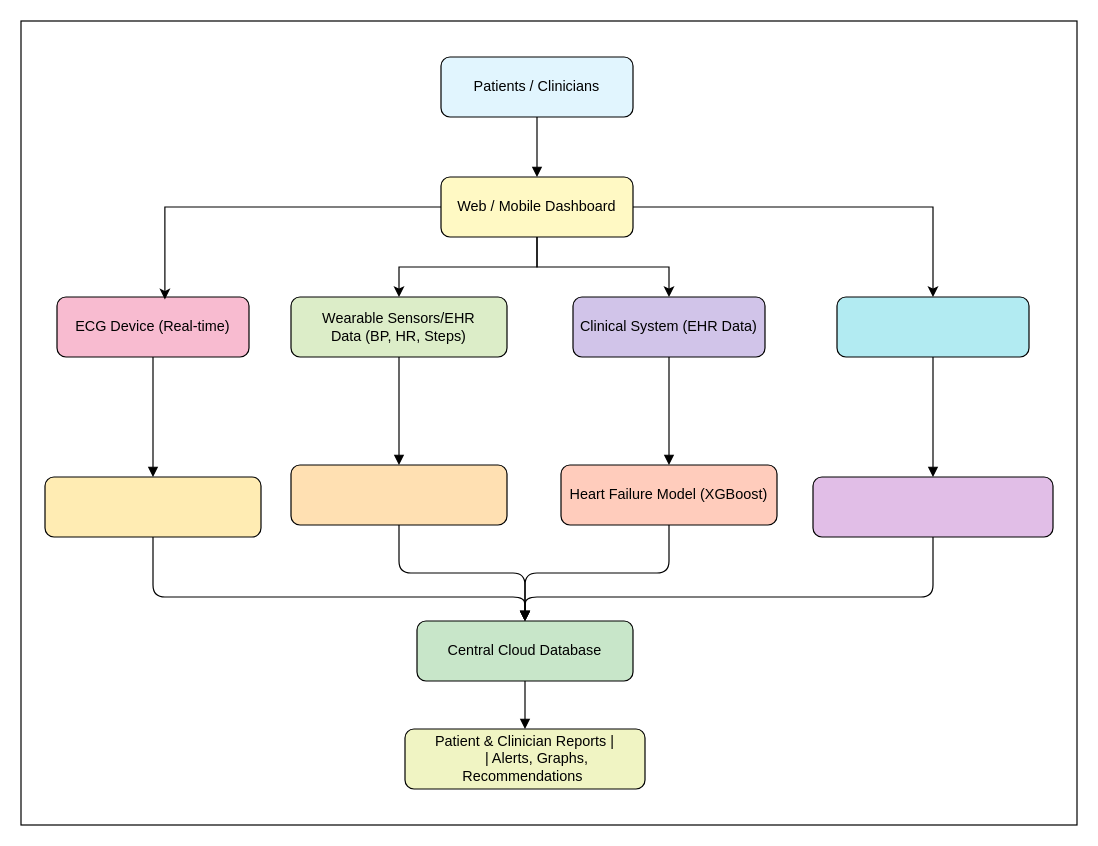
The diagram is 1098 pixels wide and 846 high, and some of its shapes have lost their labels. Here are the shapes that lost their labels. From the top down, the centre of each, then its label:
[932,326]: Echocardiogram Upload
[152,506]: Arrhythmia Model (CNN+LSTM)
[398,494]: CAD Risk Model (ML)
[932,506]: LVH Detection (3D CNN + Grad-CAM)
